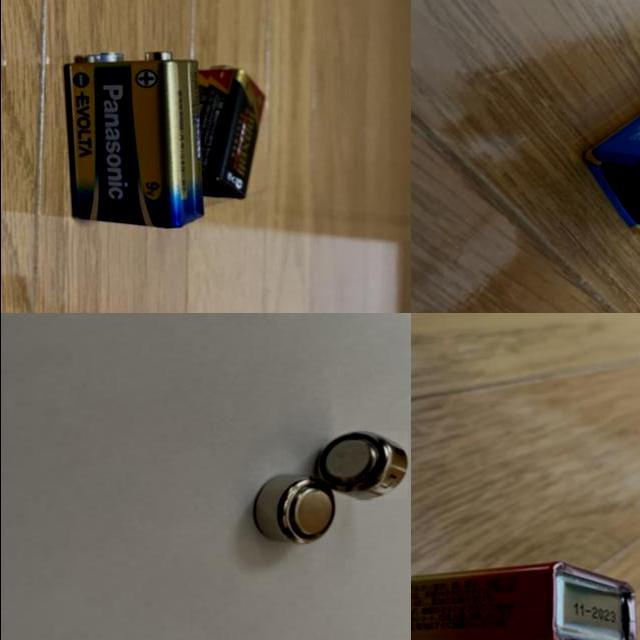9V: (66, 48, 204, 228), (410, 561, 640, 640), (169, 63, 268, 200), (586, 44, 640, 250)
